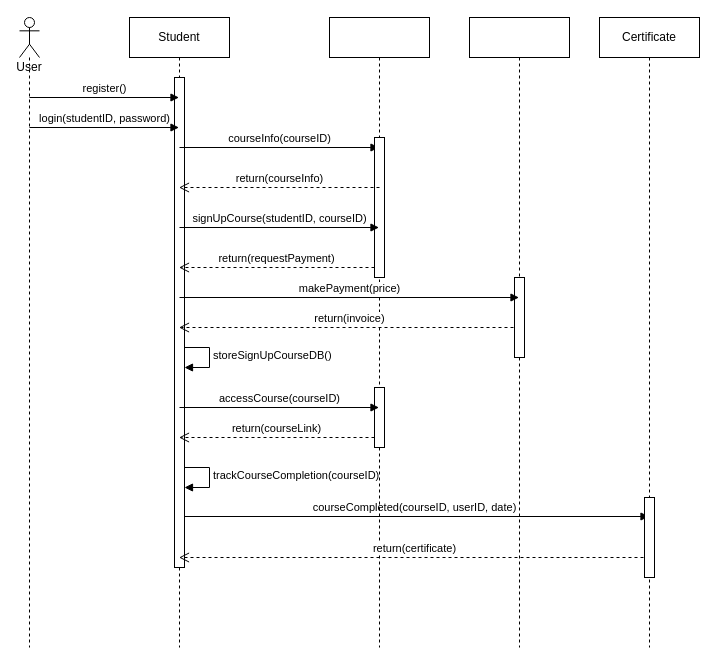
The diagram is 717 pixels wide and 665 high, and some of its shapes have lost their labels. Each missing label, with the box of its shape:
Course: (328, 16, 430, 648)
Payment: (468, 16, 570, 648)
